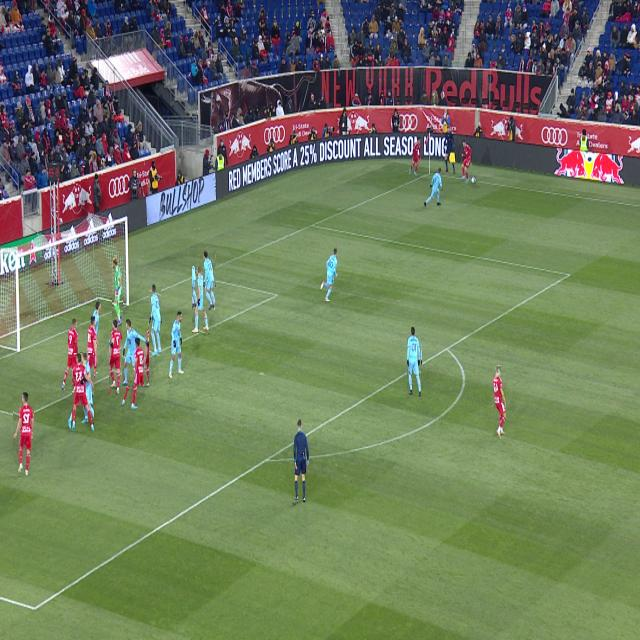football: (472, 176, 475, 184)
goalkeeper: (112, 256, 123, 326)
player: (122, 320, 149, 386), (13, 393, 34, 476), (72, 353, 94, 431), (109, 320, 126, 394), (62, 318, 79, 391), (122, 339, 138, 410), (192, 267, 209, 333), (169, 312, 184, 379), (320, 248, 338, 302), (493, 365, 506, 439), (408, 327, 421, 397), (87, 316, 98, 393), (150, 285, 161, 356), (424, 167, 443, 206), (204, 250, 215, 310), (68, 380, 80, 429), (461, 141, 472, 182), (92, 301, 101, 339), (75, 352, 84, 381), (78, 406, 84, 423), (80, 377, 85, 385), (135, 371, 137, 377), (96, 372, 98, 374), (96, 344, 97, 348)
referee: (293, 419, 309, 505)
